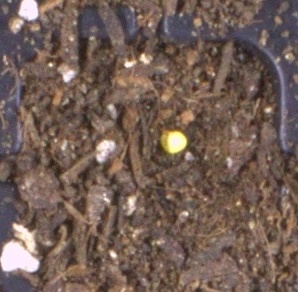chilli seed: (159, 130, 188, 155)
